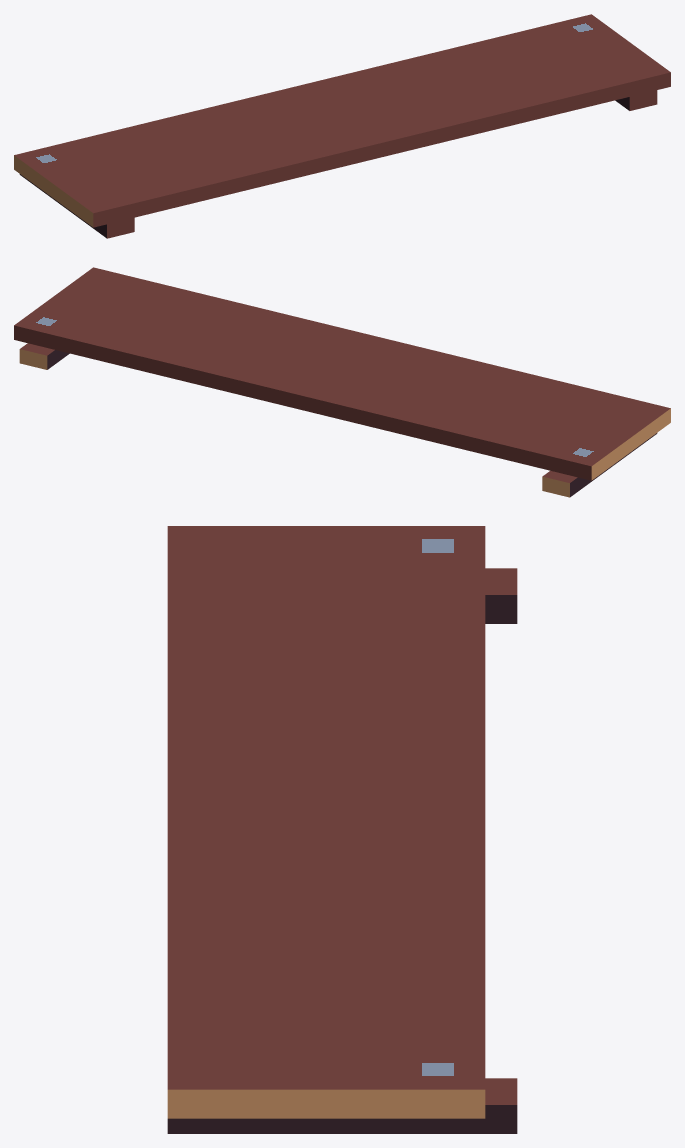
File: TopShelf.gltf
The picture shows the model from 3 angles, top to bottom: view 1: azimuth 30°, elevation 25°; view 2: azimuth 150°, elevation 25°; view 3: azimuth 270°, elevation 25°; orthographic projection. The views are drawn at different scales.
Parts seen in each view (by area): view 1: mesh; view 2: mesh; view 3: mesh.
Part boxes in pixels (bbox=[...]): mesh: bbox=[14, 14, 670, 238]; mesh: bbox=[14, 267, 670, 497]; mesh: bbox=[167, 526, 517, 1133].
Bounding box in the file's own units: 2.62 × 0.125 × 0.6875.
1 material, 1 textured.
